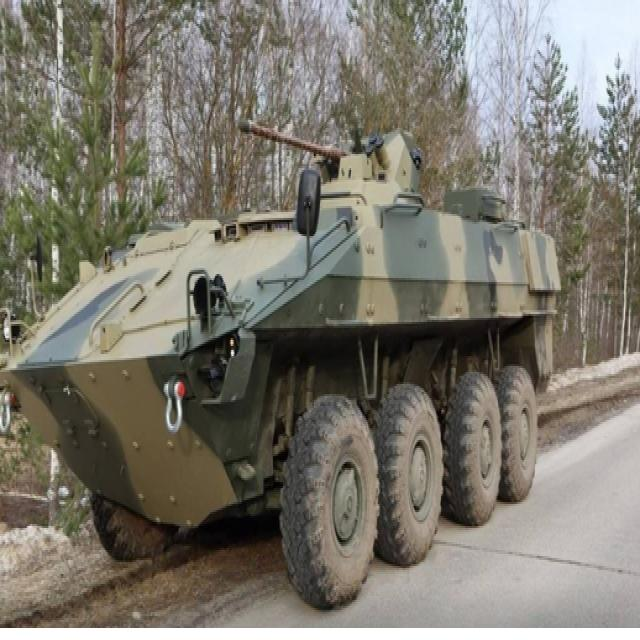MIL_APC: (19, 146, 574, 602)
